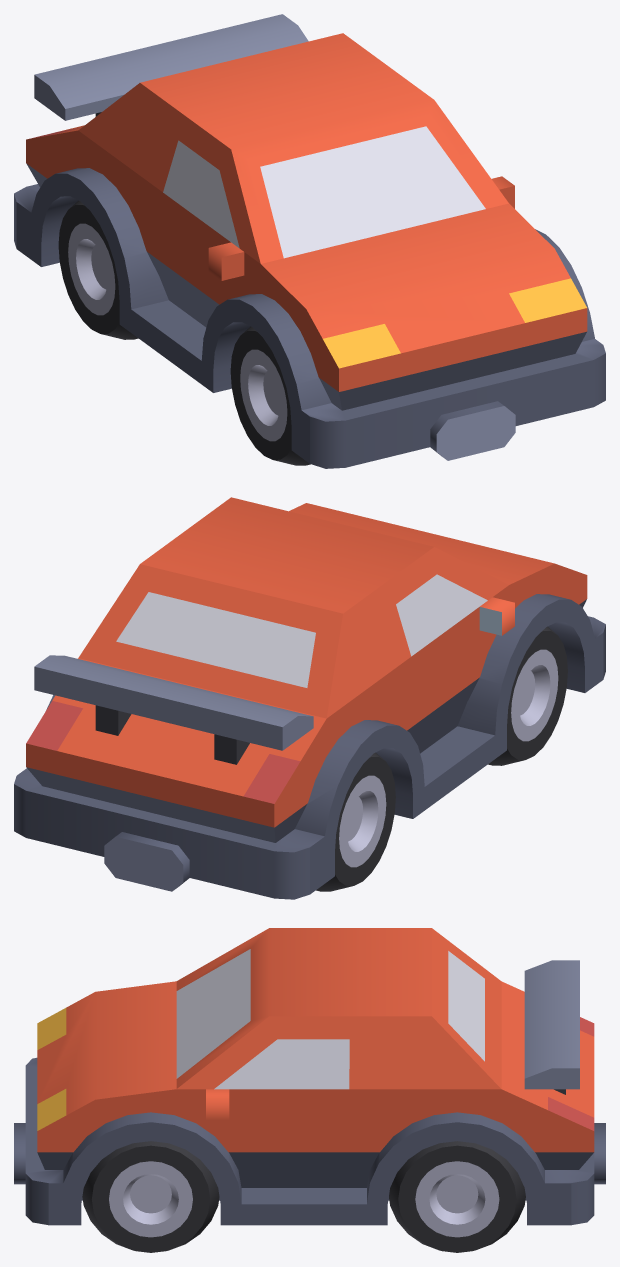
The model's file is vehicle-sedan-orange.glb.
3 renders of one model, top to bottom at view 1: azimuth 30°, elevation 25°; view 2: azimuth 150°, elevation 25°; view 3: azimuth 270°, elevation 25°, orthographic. The views are drawn at different scales.
Visible parts, largest first — view 1: body, wheel-back-right, wheel-front-right; view 2: body, wheel-back-right, wheel-front-right; view 3: body, wheel-back-left, wheel-front-left.
Part boxes in pixels (x1,y1,x2,y2): body: (14, 14, 605, 468); wheel-back-right: (58, 200, 138, 339); wheel-front-right: (230, 326, 310, 465); body: (14, 497, 605, 899); wheel-back-right: (316, 752, 395, 891); wheel-front-right: (488, 626, 567, 765); body: (14, 928, 605, 1225); wheel-back-left: (389, 1141, 525, 1252); wheel-front-left: (82, 1141, 219, 1252).
Size of the model in its own units: 1.3 by 1.1 by 2.55.
Materials: 1 (1 with a texture image).
